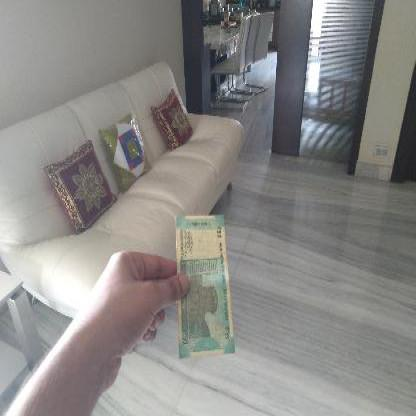New50Back: (174, 213, 234, 363)
